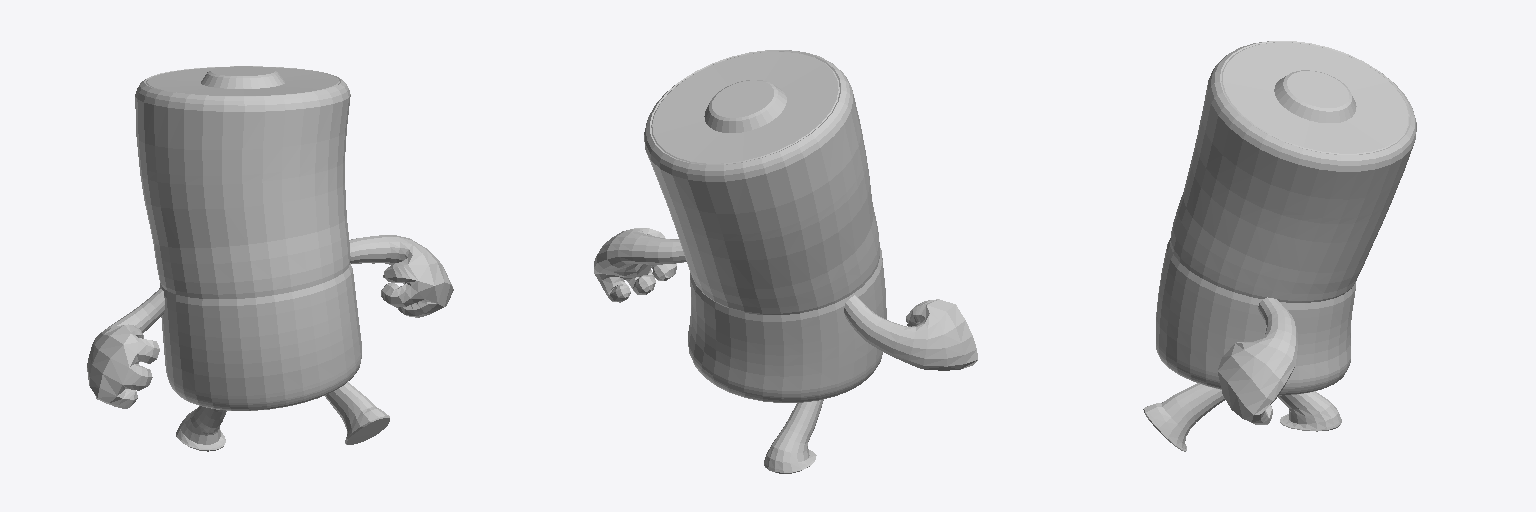
Rendered from boi-7.obj.
The picture shows the model from 3 angles: view 1: azimuth 30°, elevation 25°; view 2: azimuth 150°, elevation 25°; view 3: azimuth 270°, elevation 25°; orthographic projection.
Parts seen in each view (by area): view 1: meshes_0; view 2: meshes_0; view 3: meshes_0.
Part boxes in pixels (left/top/right/bottom): meshes_0: left=87, top=66, right=453, bottom=451; meshes_0: left=594, top=50, right=977, bottom=473; meshes_0: left=1143, top=41, right=1416, bottom=451.
Size of the model in its own units: 130 by 124 by 83.33.